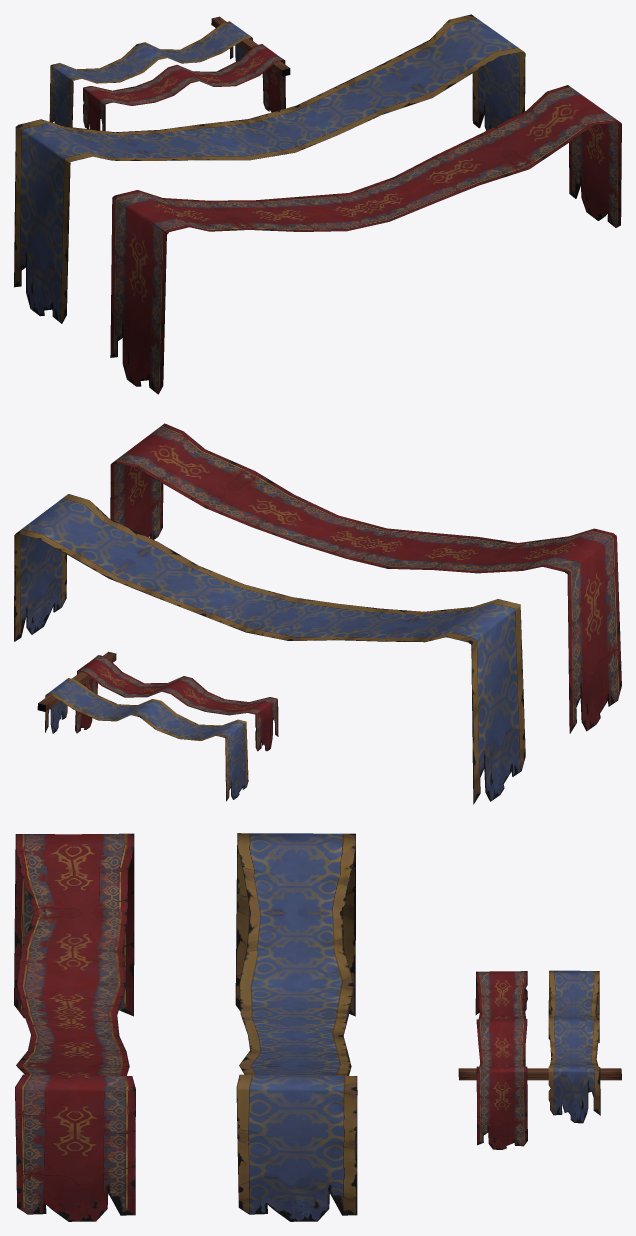
The picture shows the model from 3 angles, top to bottom: view 1: azimuth 30°, elevation 25°; view 2: azimuth 150°, elevation 25°; view 3: azimuth 270°, elevation 25°; orthographic projection. The views are drawn at different scales.
Visible parts, largest first — view 1: 2_SM_Bu_01_04, 2_SM_Bu_01_03, 2_SM_Bu_01_02, 2_SM_Bu_01_01; view 2: 2_SM_Bu_01_03, 2_SM_Bu_01_04, 2_SM_Bu_01_01, 2_SM_Bu_01_02; view 3: 2_SM_Bu_01_03, 2_SM_Bu_01_04, 2_SM_Bu_01_02, 2_SM_Bu_01_01, 2_SM_Bu_01_05.
Part boxes in pixels (x1,y1,x2,y2): 2_SM_Bu_01_04: [110, 85, 621, 394]; 2_SM_Bu_01_03: [14, 14, 525, 323]; 2_SM_Bu_01_02: [83, 44, 285, 130]; 2_SM_Bu_01_01: [49, 21, 252, 127]; 2_SM_Bu_01_03: [14, 494, 525, 804]; 2_SM_Bu_01_04: [110, 423, 621, 733]; 2_SM_Bu_01_01: [45, 678, 248, 801]; 2_SM_Bu_01_02: [75, 655, 278, 751]; 2_SM_Bu_01_03: [235, 833, 357, 1221]; 2_SM_Bu_01_04: [14, 833, 135, 1221]; 2_SM_Bu_01_02: [475, 971, 527, 1149]; 2_SM_Bu_01_01: [548, 970, 600, 1123]; 2_SM_Bu_01_05: [458, 1068, 621, 1080].
Size of the model in its own units: 1759 by 626 by 1751.
